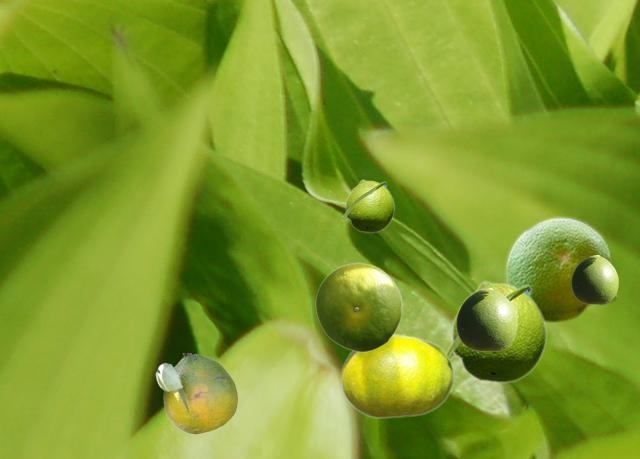dalandan: (503, 215, 619, 322), (445, 280, 547, 383), (340, 333, 453, 418), (315, 262, 401, 351), (155, 353, 237, 433), (456, 288, 516, 350), (341, 179, 394, 232), (571, 255, 617, 303)
